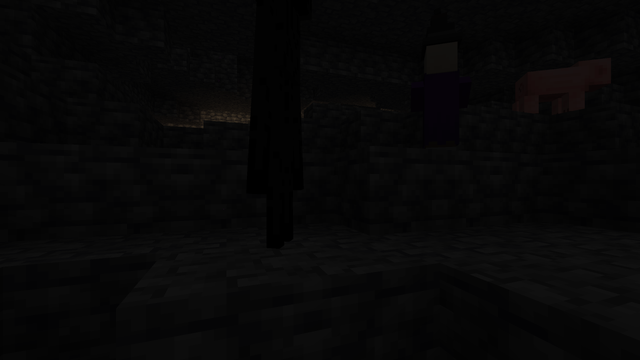cochons: (512, 61, 588, 116)
endermens: (246, 1, 319, 254)
sorcieres: (414, 33, 467, 133)
